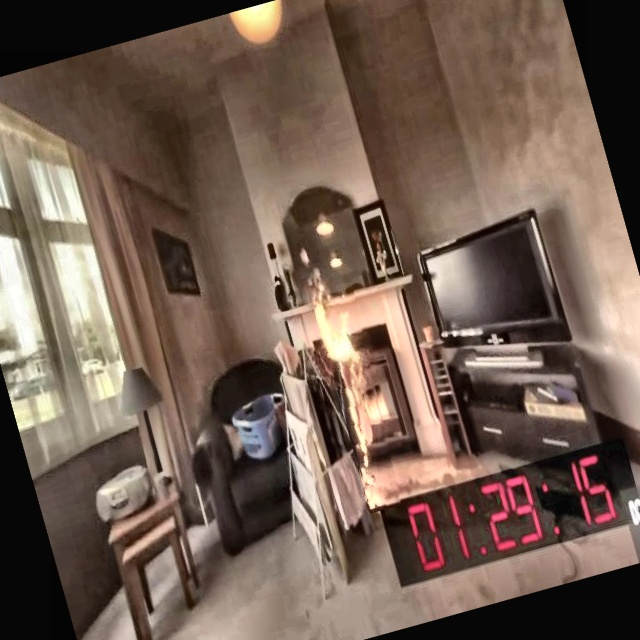fire: (270, 243, 427, 459)
